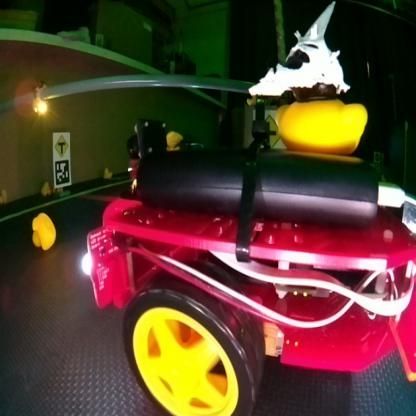duckie: (22, 207, 65, 263)
duckiebot: (75, 116, 416, 415)
